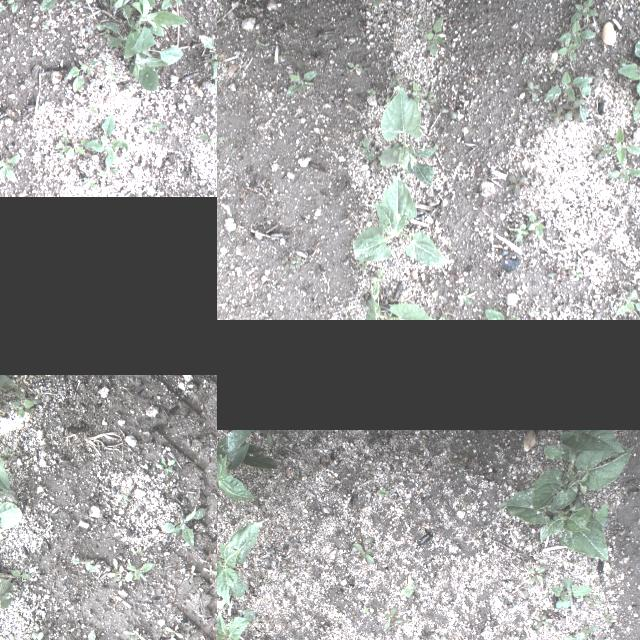crop: (352, 176, 450, 268), (496, 488, 608, 560), (532, 444, 630, 511), (378, 86, 434, 184), (217, 429, 276, 514), (217, 521, 263, 608), (364, 282, 434, 320), (0, 447, 23, 528), (560, 430, 624, 450), (0, 375, 20, 399), (0, 577, 12, 608)
weed: (99, 0, 188, 94), (81, 116, 129, 172), (614, 31, 640, 105), (162, 504, 206, 546), (542, 68, 596, 102), (61, 51, 100, 97), (592, 128, 640, 165), (191, 32, 217, 86), (547, 98, 589, 128), (550, 578, 592, 608), (10, 384, 42, 420), (217, 575, 247, 613), (283, 71, 319, 101), (43, 0, 120, 14), (562, 16, 594, 46), (54, 136, 90, 162), (422, 16, 446, 54), (351, 530, 374, 564), (552, 37, 582, 63), (526, 207, 548, 239), (0, 155, 24, 184), (616, 285, 640, 314), (542, 444, 582, 461), (502, 174, 526, 196), (569, 0, 600, 17), (606, 167, 640, 182), (126, 563, 154, 581), (72, 554, 100, 572), (382, 607, 404, 629), (64, 629, 107, 640), (483, 307, 521, 319), (160, 0, 187, 16), (357, 138, 373, 164), (456, 285, 476, 305), (106, 558, 124, 580), (156, 456, 174, 476), (526, 564, 546, 582), (410, 78, 426, 100), (449, 451, 466, 471), (437, 104, 457, 120), (534, 614, 554, 630), (526, 79, 538, 105), (281, 256, 303, 270), (544, 267, 566, 281), (362, 268, 384, 282), (0, 0, 23, 13), (403, 580, 421, 596), (582, 594, 602, 608), (578, 626, 598, 640), (255, 430, 272, 446), (595, 503, 609, 522), (512, 222, 526, 240), (422, 94, 434, 112), (10, 570, 30, 580), (570, 265, 584, 279), (347, 61, 363, 73), (25, 631, 46, 640), (632, 98, 640, 121), (544, 60, 558, 72), (603, 608, 613, 624), (274, 284, 288, 294), (376, 487, 388, 498), (360, 294, 370, 306), (364, 85, 374, 96), (632, 246, 640, 258), (257, 310, 269, 318), (362, 607, 374, 615), (371, 0, 387, 5), (294, 469, 300, 479), (285, 572, 289, 576)
